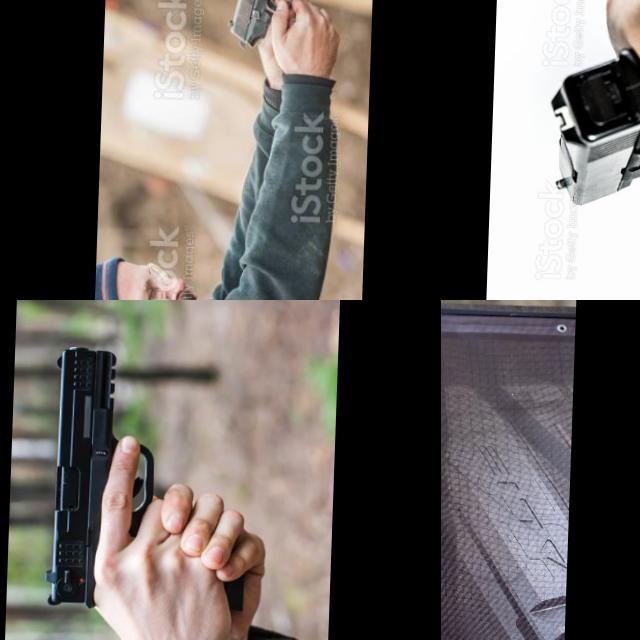handgun: (43, 341, 158, 612), (544, 35, 640, 210), (222, 0, 297, 68), (441, 471, 462, 590)
